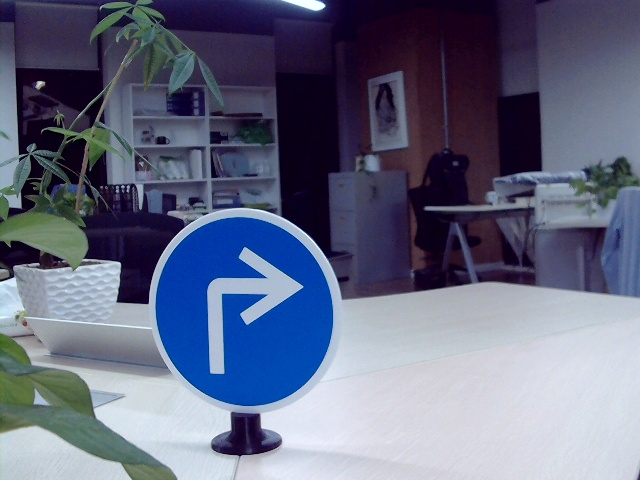turn_right: (195, 244, 306, 378)
